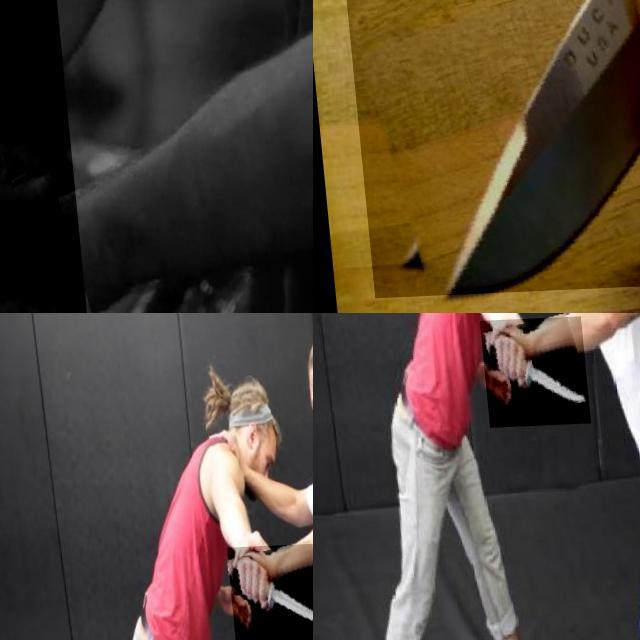-: (330, 0, 640, 298), (475, 320, 584, 430), (221, 546, 313, 640)
gun-knife-thesis - v11 Yolov5 augmented: (0, 0, 168, 313)
